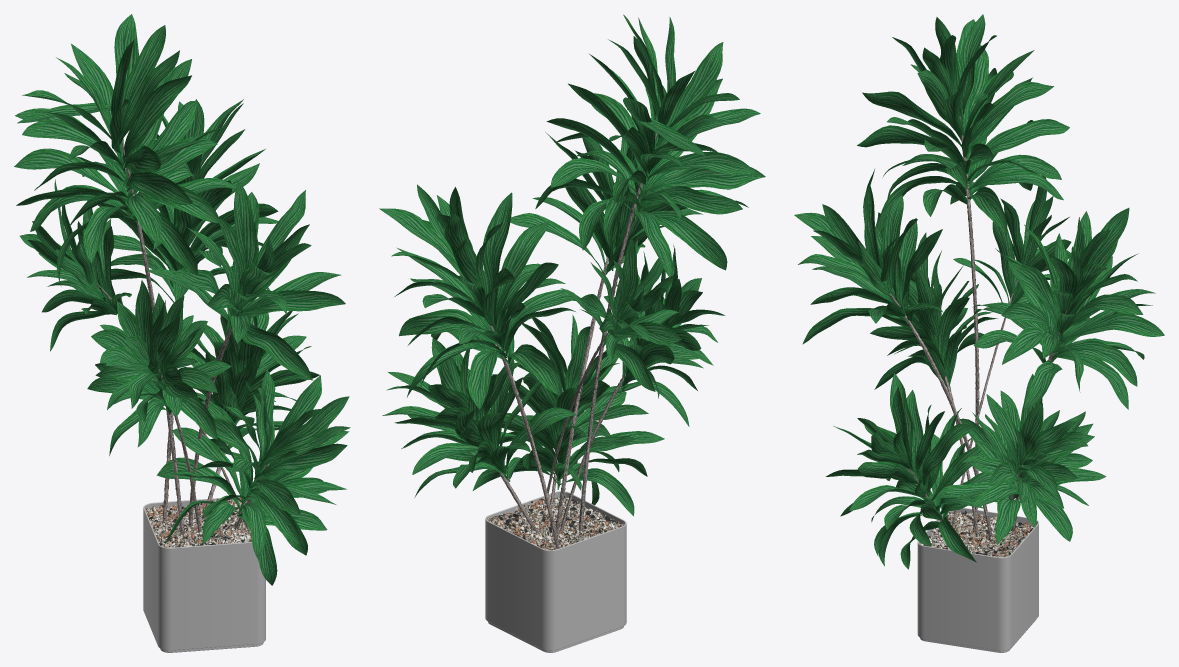
The model's file is tree.glb.
3 views of the same model, side by side, from view 1: azimuth 30°, elevation 25°; view 2: azimuth 150°, elevation 25°; view 3: azimuth 270°, elevation 25° (orthographic). The views are drawn at different scales.
Visible parts, largest first — view 1: House Plant Palm; view 2: House Plant Palm; view 3: House Plant Palm.
Part boxes in pixels (x1=…): House Plant Palm: x1=14, y1=14, x2=350, y2=652; House Plant Palm: x1=379, y1=14, x2=765, y2=652; House Plant Palm: x1=794, y1=14, x2=1164, y2=652.
Size of the model in its own units: 53.62 by 99 by 58.37.
4 materials, 3 textured.
